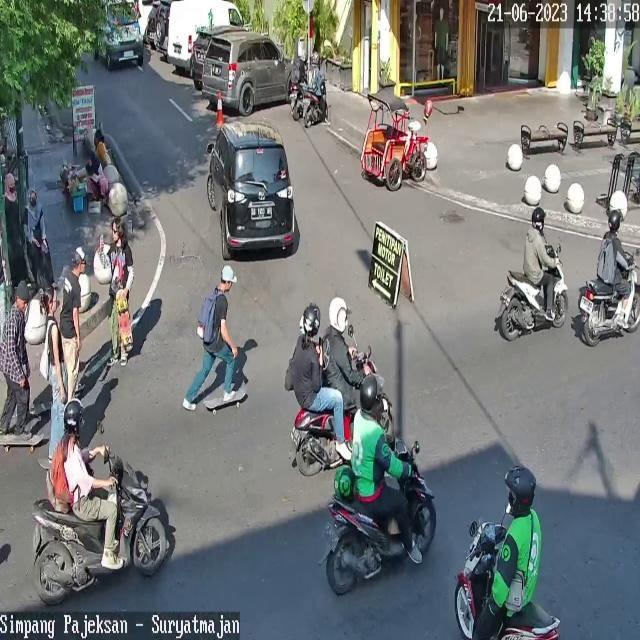bus: (32, 448, 167, 605), (320, 438, 438, 596), (290, 342, 392, 478), (454, 519, 561, 640), (494, 243, 569, 340), (579, 250, 640, 346), (303, 79, 327, 129), (290, 83, 304, 121)
motorcycle: (208, 119, 296, 260), (201, 30, 293, 116), (166, 0, 245, 67), (101, 0, 143, 68), (122, 0, 154, 36), (191, 28, 211, 82)
